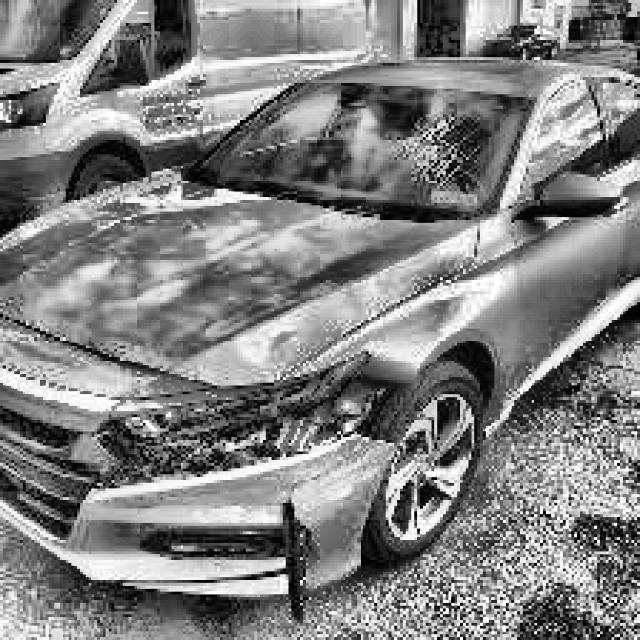head_lamp: (109, 386, 390, 461)
